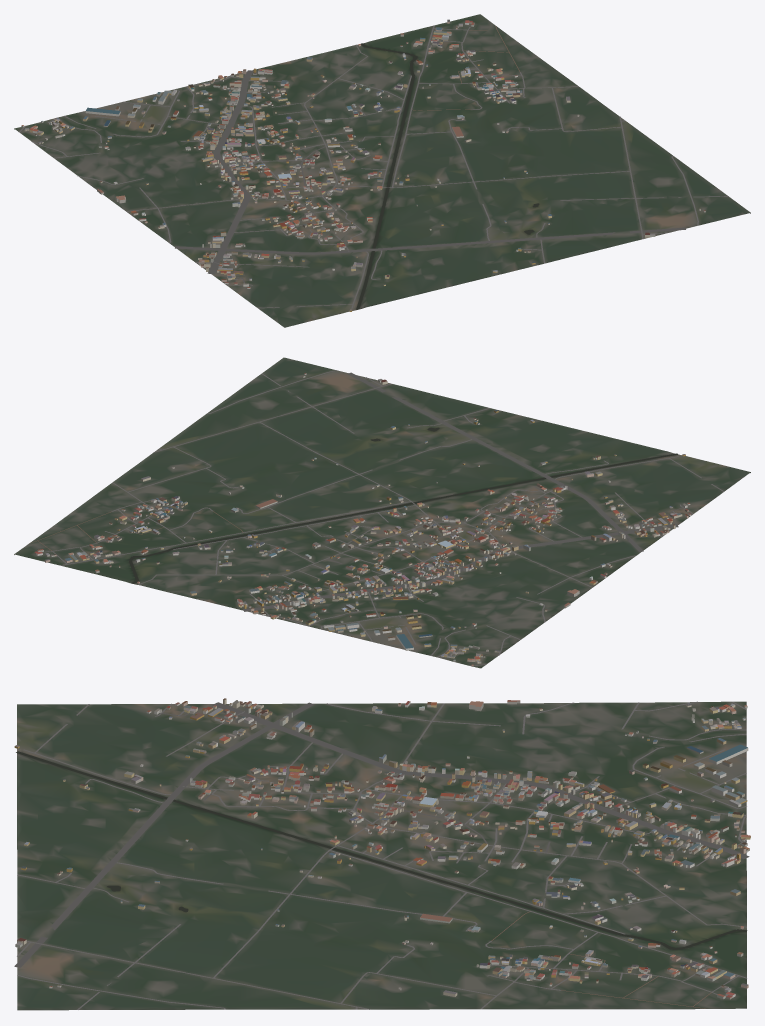
The picture shows the model from 3 angles, top to bottom: view 1: azimuth 30°, elevation 25°; view 2: azimuth 150°, elevation 25°; view 3: azimuth 270°, elevation 25°; orthographic projection. The views are drawn at different scales.
Parts seen in each view (by area): view 1: ground, buildings, roads, water; view 2: ground, buildings, roads, water; view 3: ground, buildings, roads, water.
Boxes of the visible parts, x1=… form: ground: x1=14, y1=14, x2=750, y2=327; buildings: x1=21, y1=19, x2=705, y2=311; roads: x1=19, y1=25, x2=728, y2=308; water: x1=356, y1=43, x2=539, y2=309; ground: x1=14, y1=357, x2=750, y2=668; buildings: x1=34, y1=373, x2=691, y2=666; roads: x1=29, y1=370, x2=724, y2=665; water: x1=129, y1=427, x2=677, y2=583; ground: x1=17, y1=701, x2=746, y2=1010; buildings: x1=14, y1=698, x2=750, y2=999; roads: x1=14, y1=701, x2=749, y2=1009; water: x1=16, y1=751, x2=747, y2=949.
Size of the model in its own units: 1406 by 17.53 by 1416.
